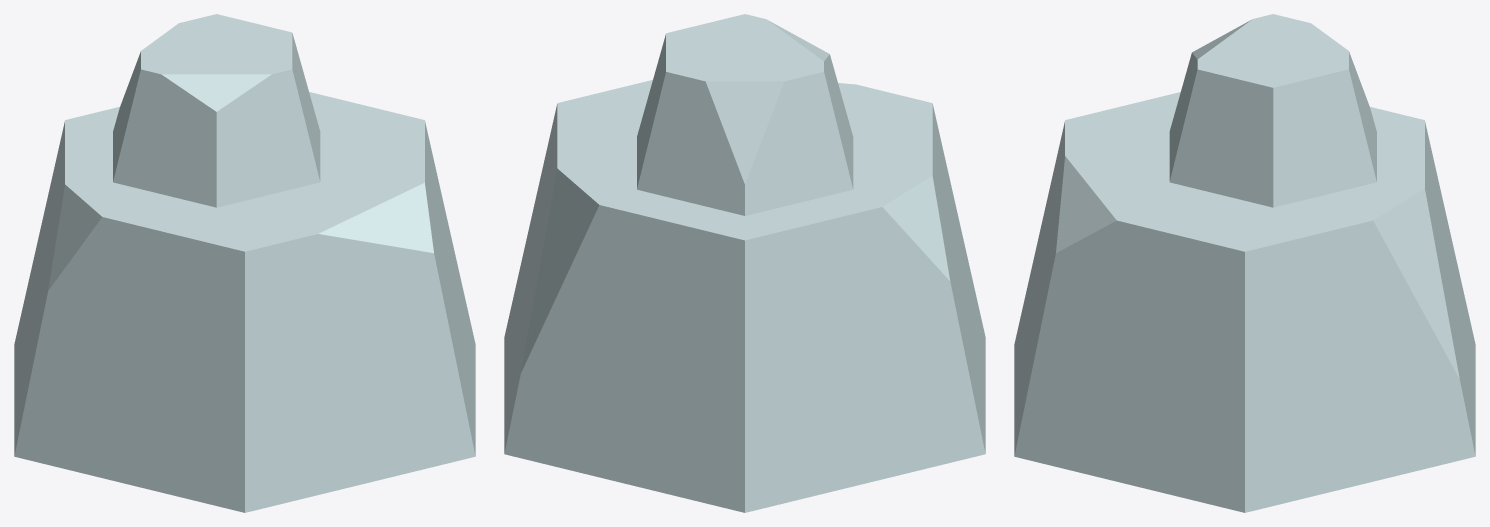
The model's file is stone_small5.glb.
3 renders of one model, left to right at view 1: azimuth 30°, elevation 25°; view 2: azimuth 150°, elevation 25°; view 3: azimuth 270°, elevation 25°, orthographic. The views are drawn at different scales.
Visible parts, largest first — view 1: stone_small5; view 2: stone_small5; view 3: stone_small5.
Part boxes in pixels (box(x1,y1,x2,y2)): stone_small5: box(14, 14, 475, 512); stone_small5: box(504, 14, 985, 512); stone_small5: box(1014, 14, 1475, 512).
Bounding box in the file's own units: 0.3608 × 0.2562 × 0.3125.
